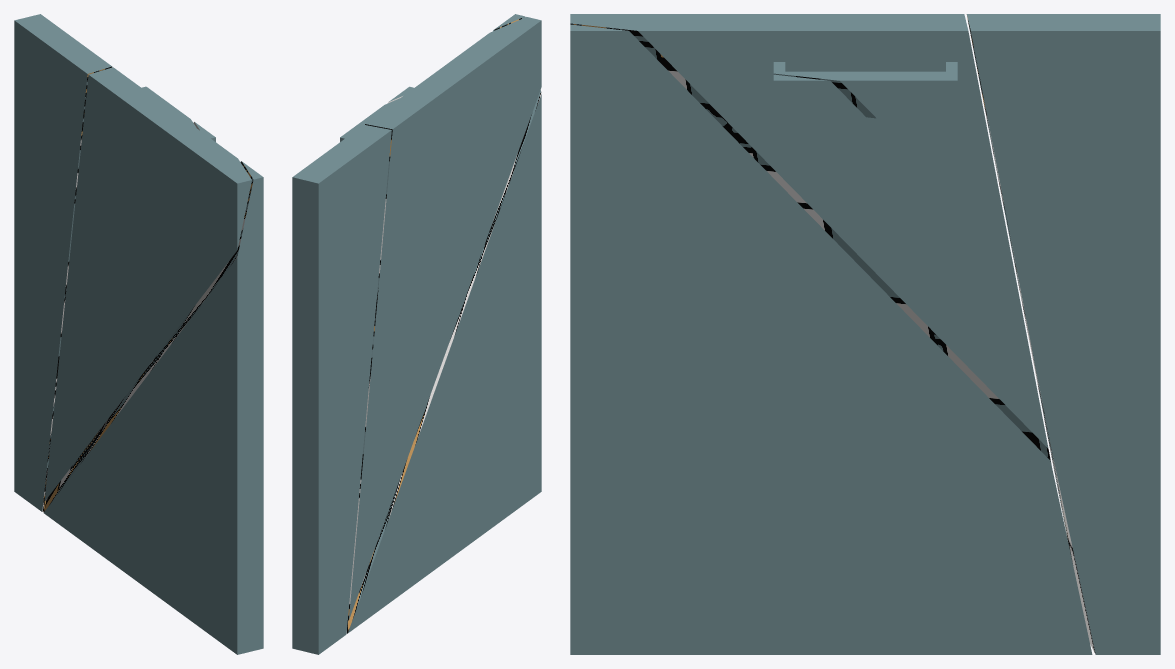
File: Cabinet_Big_Door.002_cell.fbx
3 renders of one model, left to right at view 1: azimuth 30°, elevation 25°; view 2: azimuth 150°, elevation 25°; view 3: azimuth 270°, elevation 25°, orthographic. The views are drawn at different scales.
Visible parts, largest first — view 1: Cabinet_Big_Door.002_cell, Cabinet_Big_Door.002_cell.002, Cabinet_Big_Door.002_cell.001; view 2: Cabinet_Big_Door.002_cell.002, Cabinet_Big_Door.002_cell, Cabinet_Big_Door.002_cell.001; view 3: Cabinet_Big_Door.002_cell, Cabinet_Big_Door.002_cell.001, Cabinet_Big_Door.002_cell.002, Cabinet_Big_Door.002_cell.004, Cabinet_Big_Door.002_cell.003.
Boxes of the visible parts, <box> form: Cabinet_Big_Door.002_cell: <box>43,161,263,654</box>; Cabinet_Big_Door.002_cell.002: <box>44,67,251,501</box>; Cabinet_Big_Door.002_cell.001: <box>14,14,112,511</box>; Cabinet_Big_Door.002_cell.002: <box>348,17,541,620</box>; Cabinet_Big_Door.002_cell: <box>346,14,541,633</box>; Cabinet_Big_Door.002_cell.001: <box>292,125,391,654</box>; Cabinet_Big_Door.002_cell: <box>570,24,1092,654</box>; Cabinet_Big_Door.002_cell.001: <box>966,14,1160,654</box>; Cabinet_Big_Door.002_cell.002: <box>570,14,1050,461</box>; Cabinet_Big_Door.002_cell.004: <box>773,62,957,118</box>; Cabinet_Big_Door.002_cell.003: <box>773,74,866,118</box>.
Bounding box in the file's own units: 7.26 × 59.13 × 50.7.
